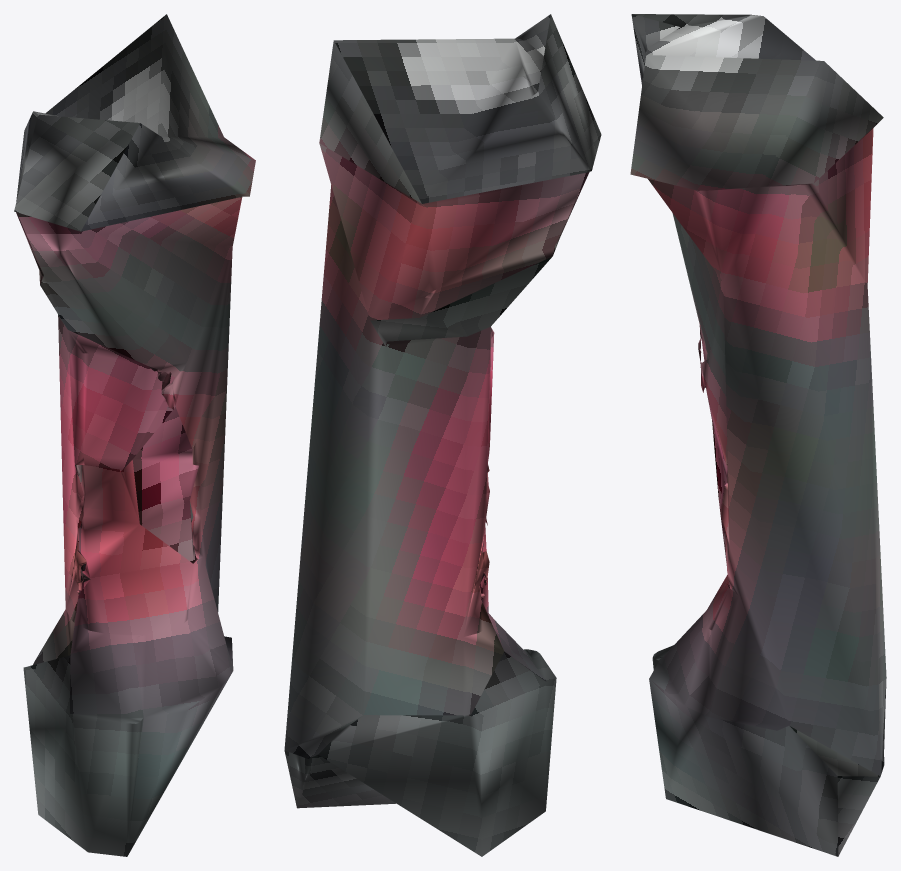
File: HeavyDuty_Flashlight-low.glb
3 renders of one model, left to right at view 1: azimuth 30°, elevation 25°; view 2: azimuth 150°, elevation 25°; view 3: azimuth 270°, elevation 25°, orthographic. The views are drawn at different scales.
Visible parts, largest first — view 1: HeavyDuty_Flashlight; view 2: HeavyDuty_Flashlight; view 3: HeavyDuty_Flashlight.
Part boxes in pixels (x1,y1,x2,y2): HeavyDuty_Flashlight: [14, 14, 255, 856]; HeavyDuty_Flashlight: [284, 14, 601, 856]; HeavyDuty_Flashlight: [630, 14, 886, 856].
Size of the model in its own units: 0.0761 by 0.2272 by 0.066.
1 material, 1 textured.
